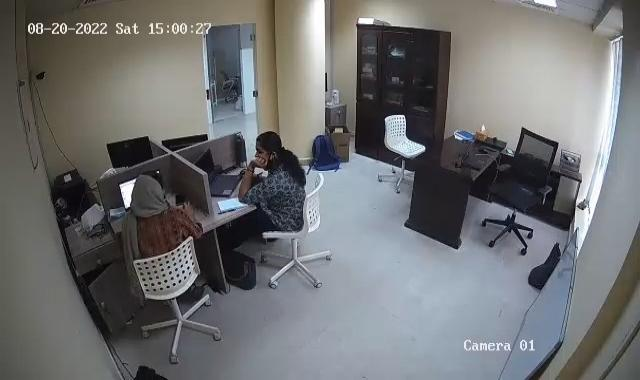no_hairnet: (123, 168, 165, 219), (248, 128, 289, 177)
